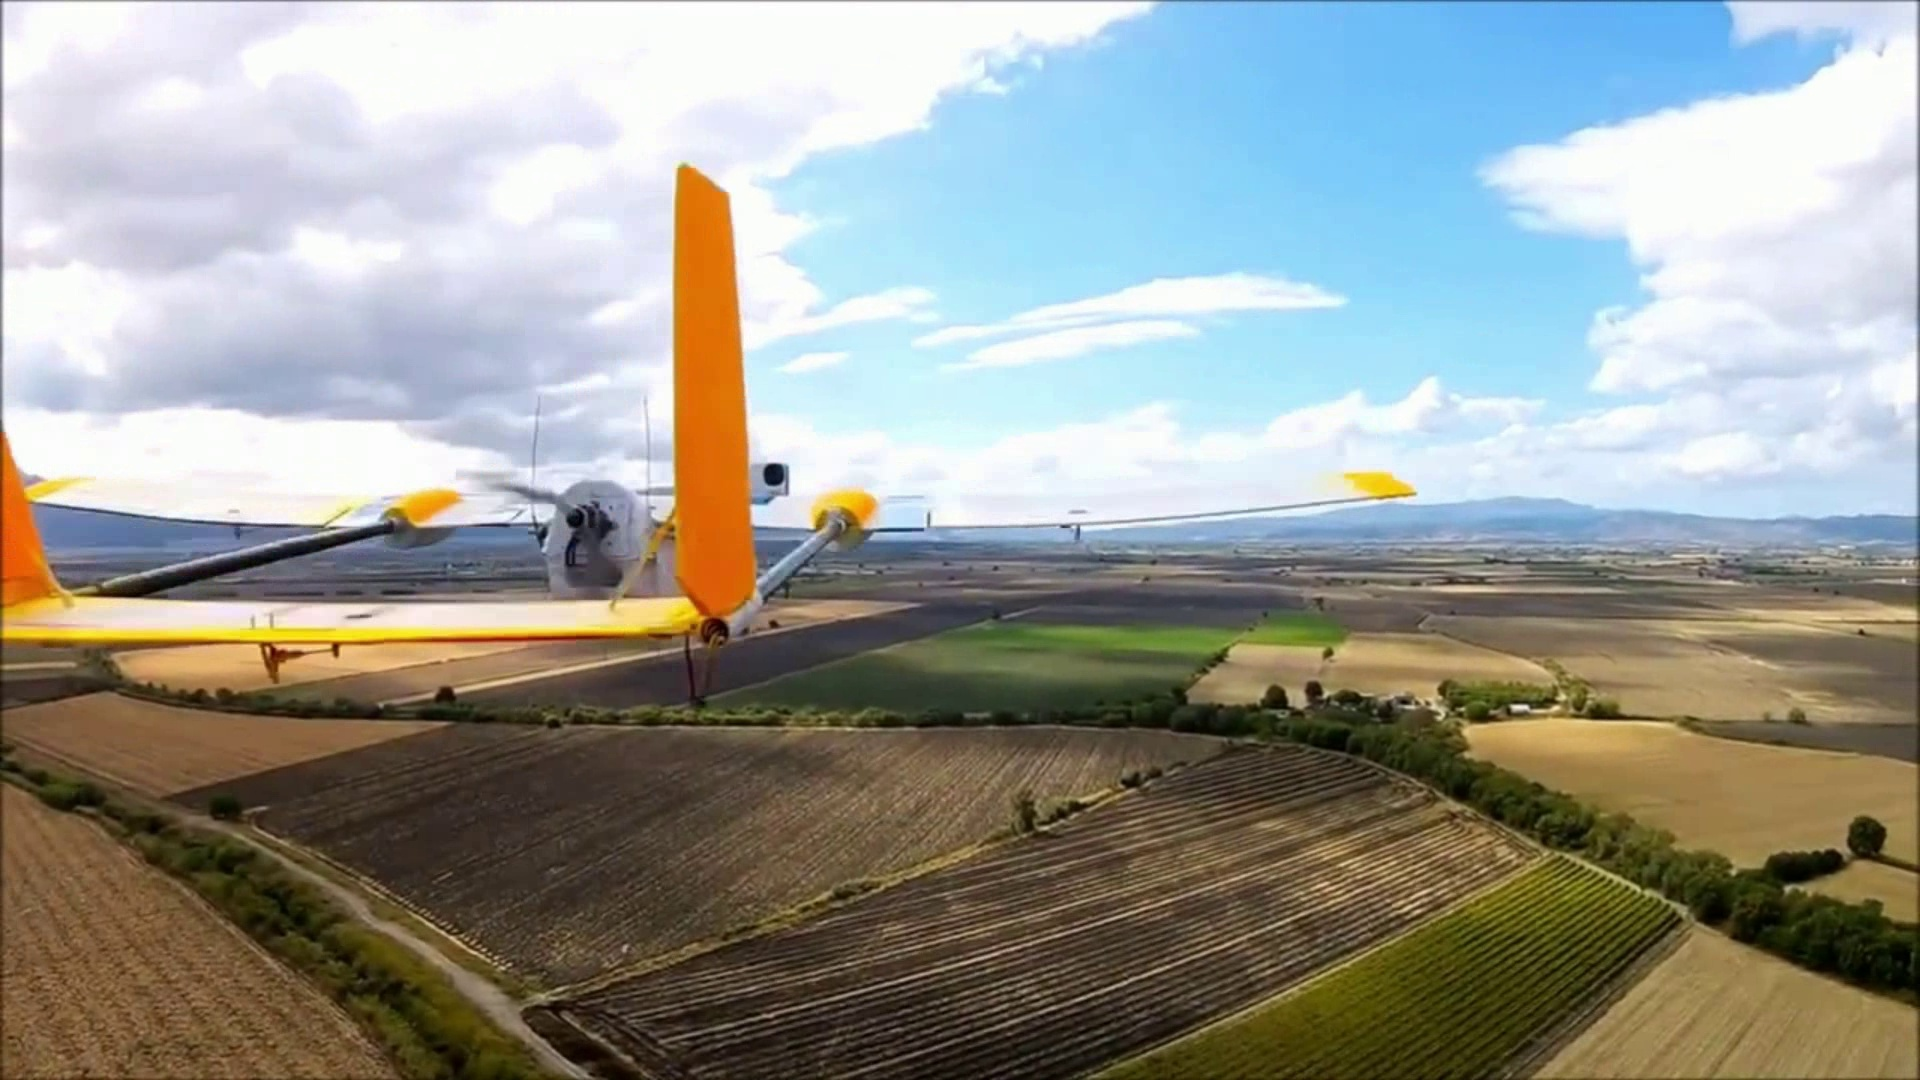airplane: (7, 161, 1422, 717), (26, 473, 467, 596)
